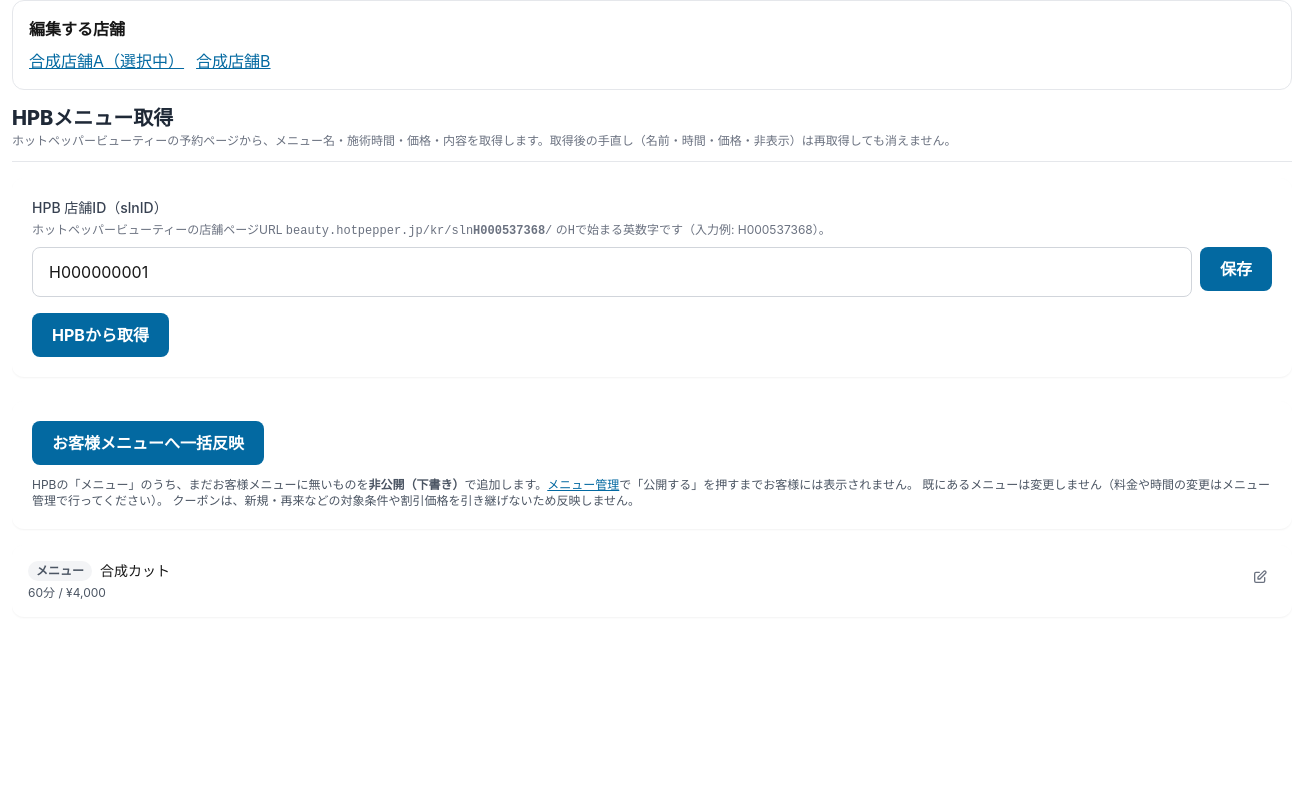
作らなかったものは理由ごとに件数を伝える（既にある・クーポン・HPBに無くなった・削除済み）
Expected: the text "合成カット" is shown, [100,561,170,581]
Click the button "お客様メニューへ一括反映". click: (148, 443)
box: [32,421,264,465]
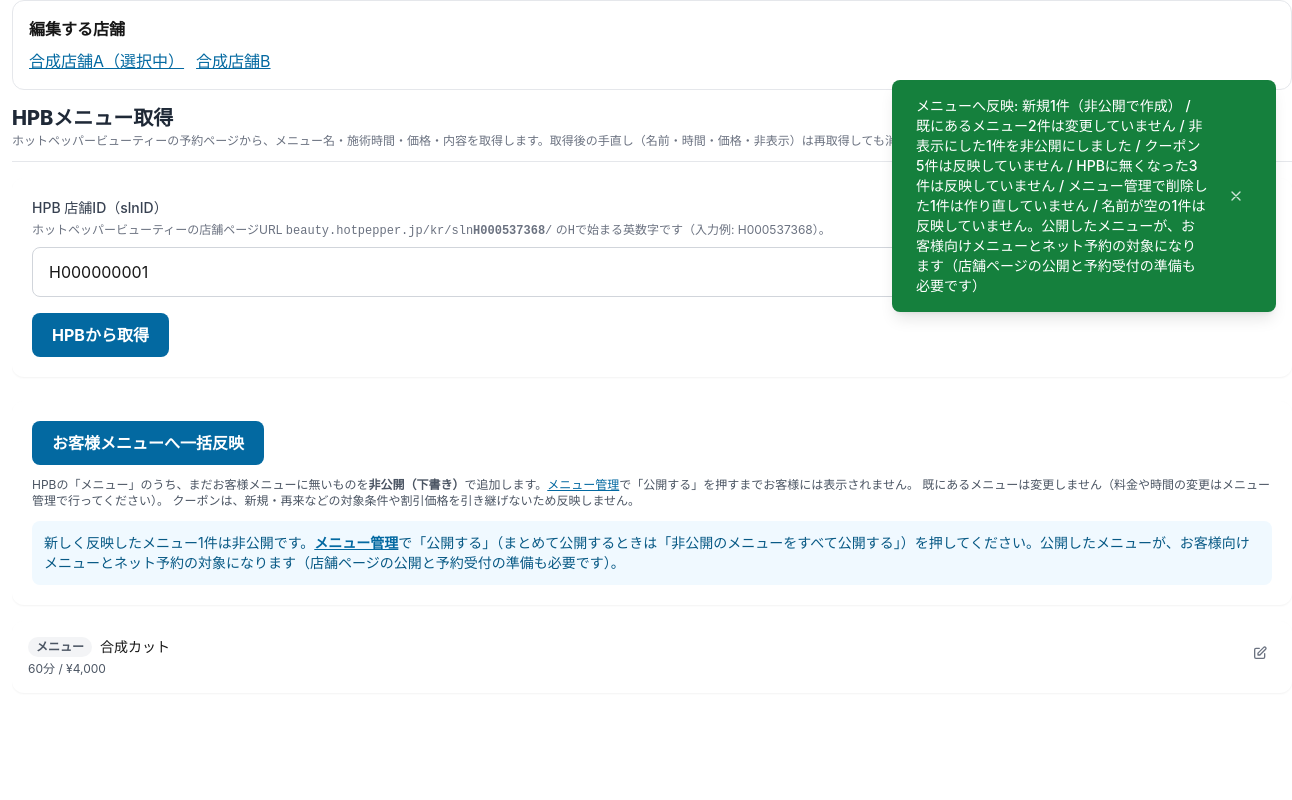
Expected: the text "メニューへ反映: 新規1件" shows "既にあるメニュー2件は変更していません", [916,97,1208,294]
Expected: the text "メニューへ反映: 新規1件" shows "非表示にした1件を非公開にしました", [916,97,1208,294]
Expected: the text "メニューへ反映: 新規1件" shows "クーポン5件は反映していません", [916,97,1208,294]
